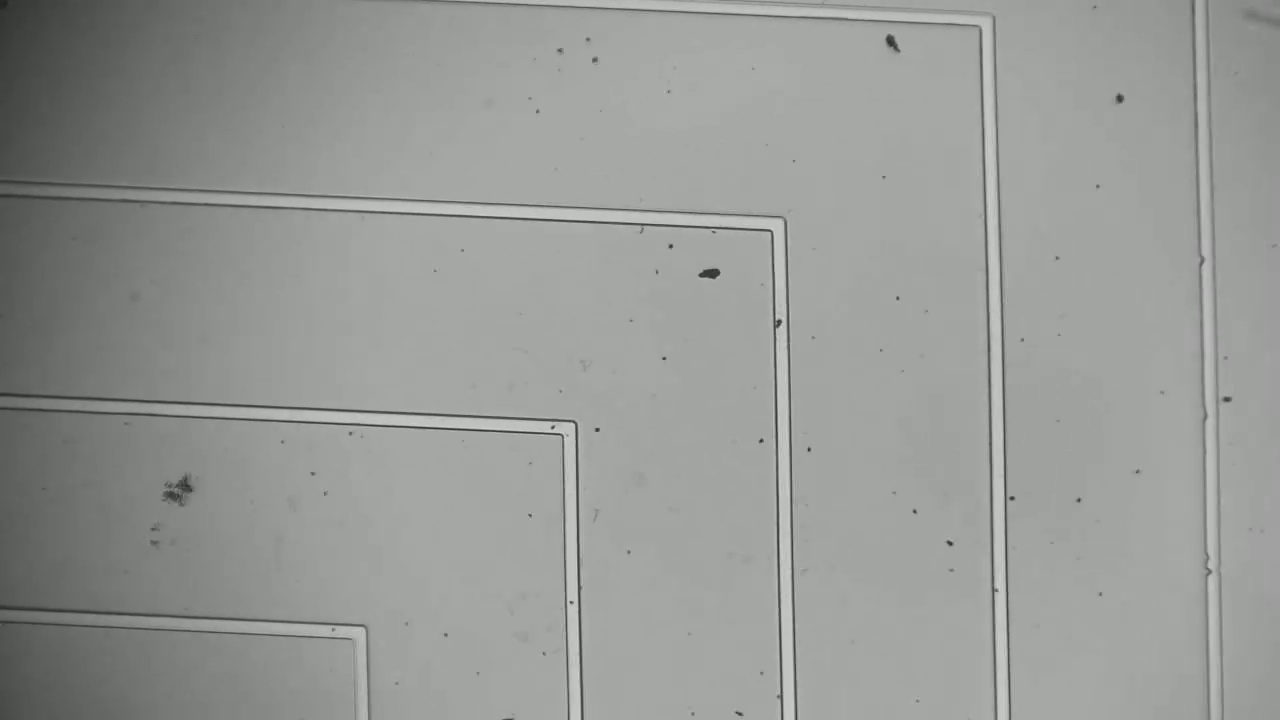edge_bite: (1195, 543, 1228, 583), (1191, 246, 1219, 270)
stains_enbedded: (768, 308, 796, 335)
